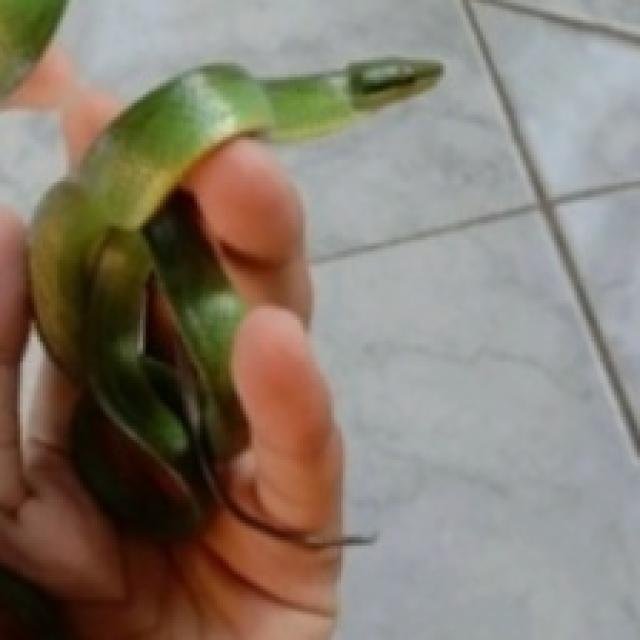red-tailed green ratsnake: (29, 60, 440, 537)
